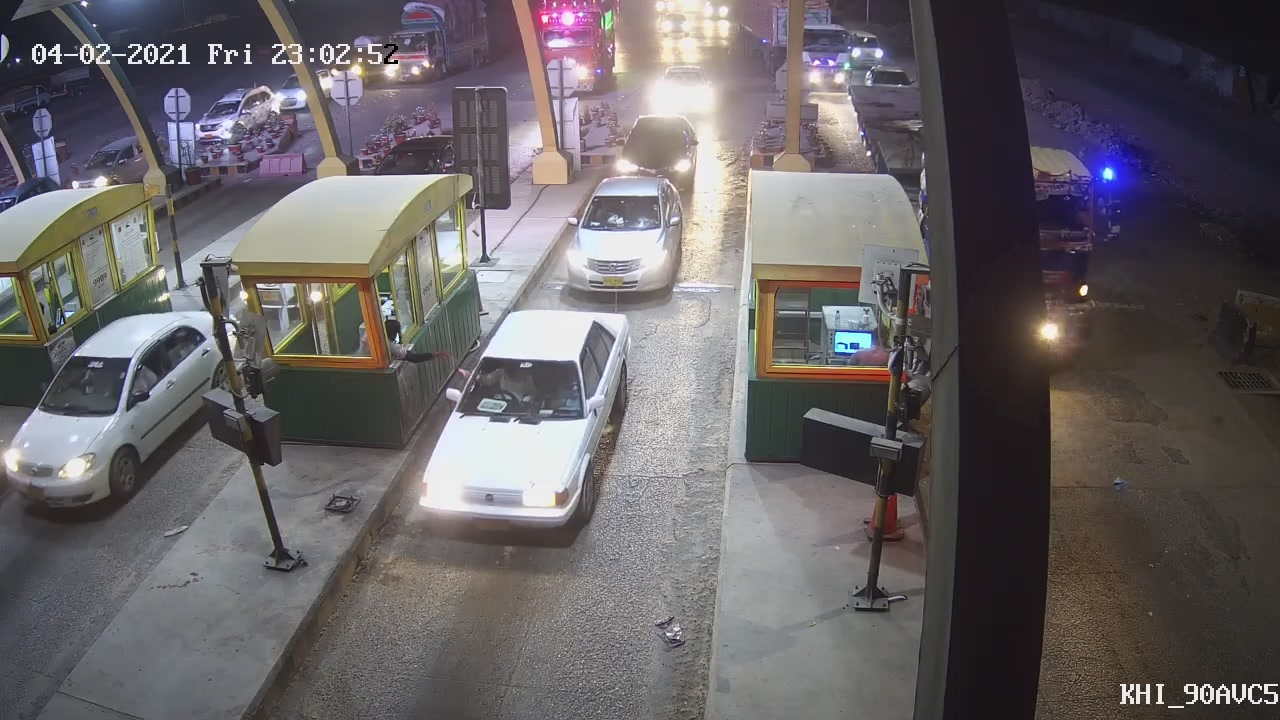F1: (416, 308, 637, 531), (553, 170, 687, 299)
